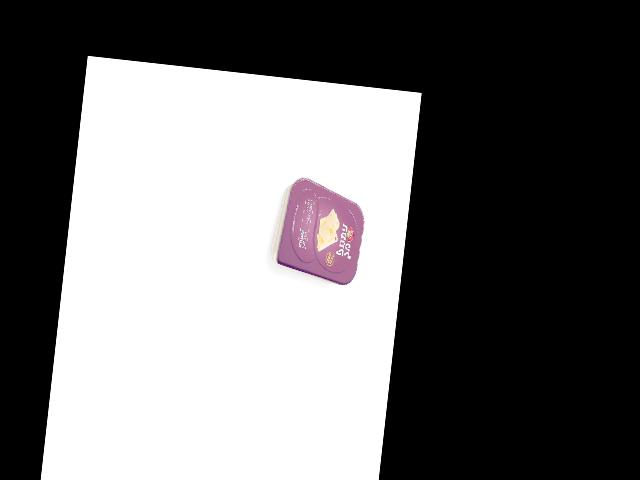cheese: (268, 174, 369, 286)
